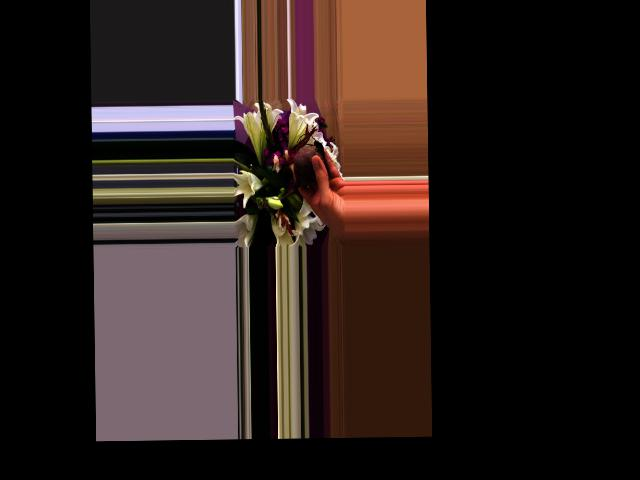beet: (271, 132, 325, 200)
